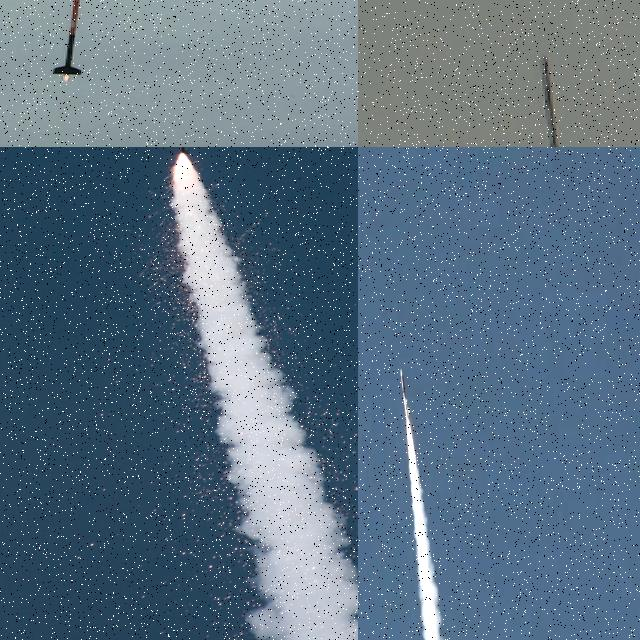Rocket: (539, 54, 565, 147), (52, 0, 83, 74), (400, 368, 411, 419), (176, 147, 189, 155)
